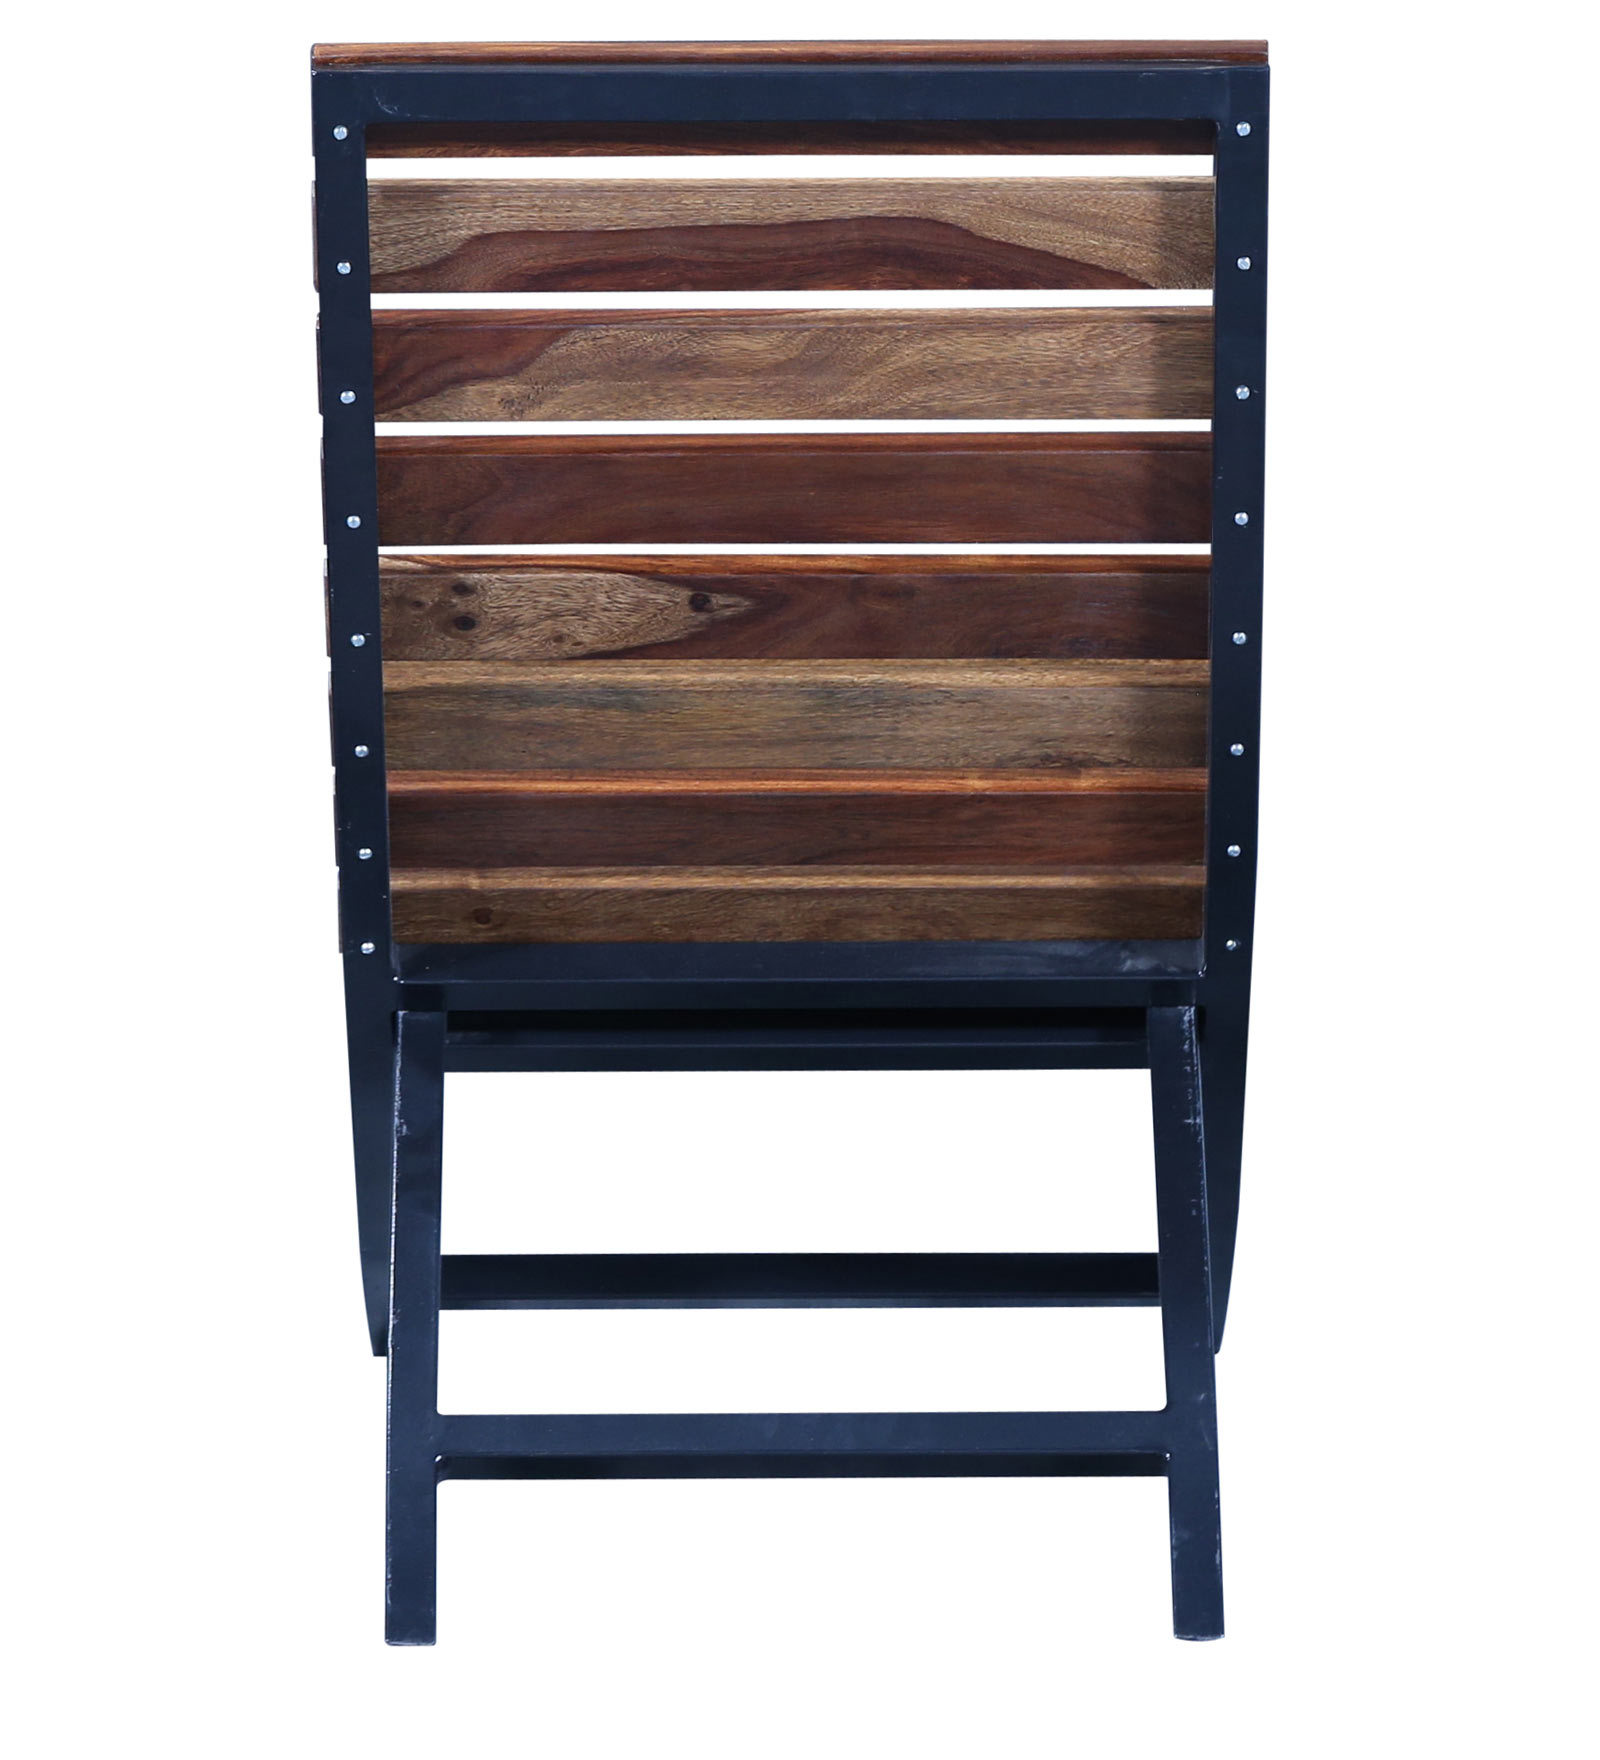Mexico Folding Chair by Bohemiana: (293, 35, 1275, 1657)
